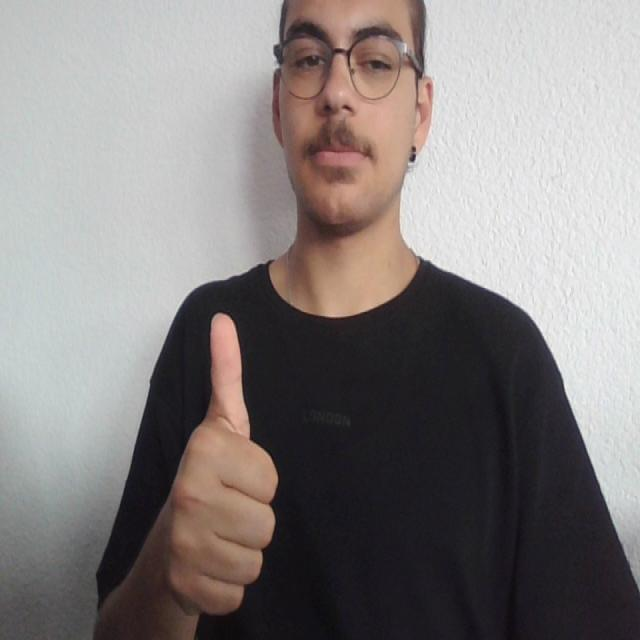Tamam: (141, 300, 286, 625)
